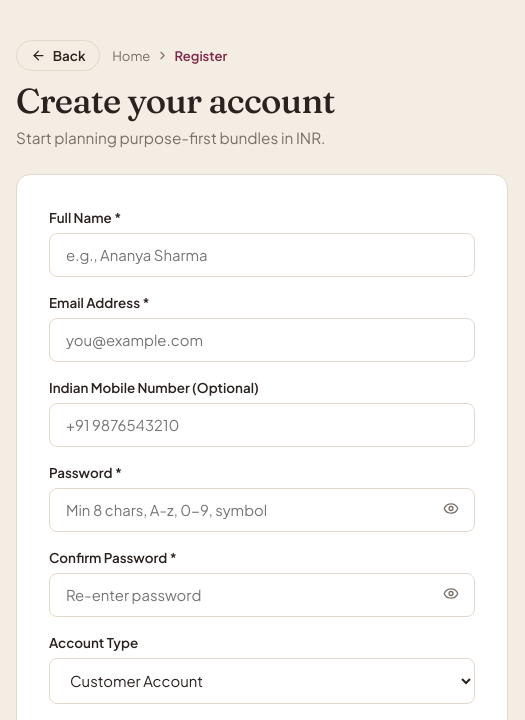
MissionCart Redesigned Frontend Suite › shows inline validation errors on invalid registration submission
Step 1. Type "A" into the field labelled "Full Name *" → point(262, 255), box [49,233,475,277]
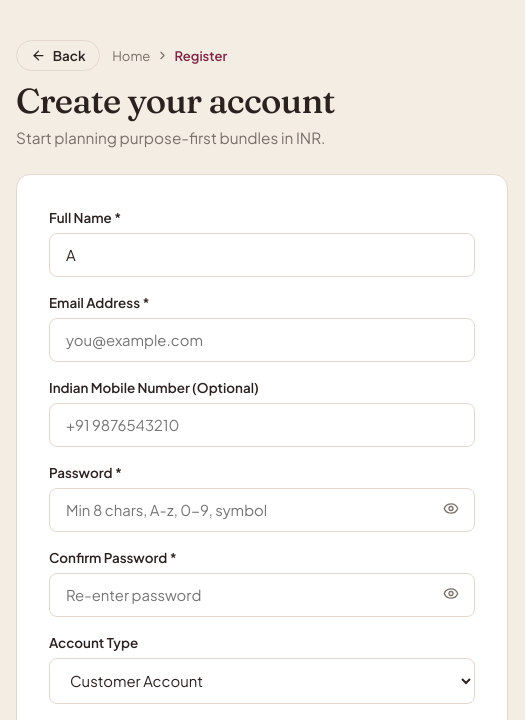
Step 2. Type "not-an-email" into the field labelled "Email Address *" → point(262, 340), box [49,318,475,362]
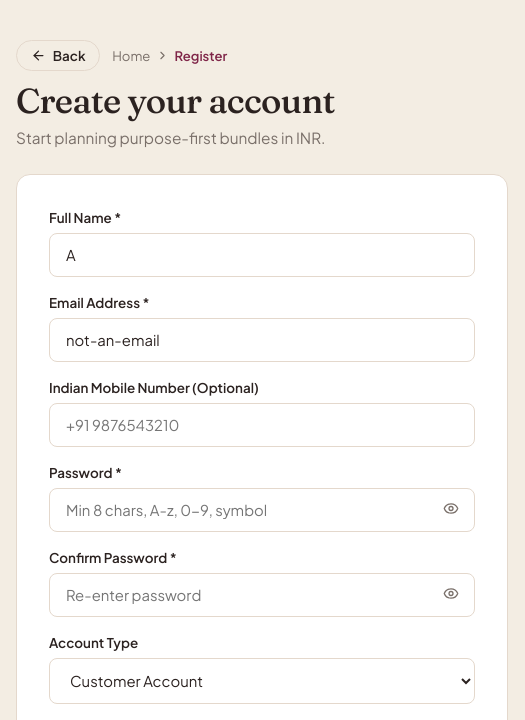
Step 3. Type "weak" into the password field labelled "Password *" → point(262, 510), box [49,488,475,532]
(page scrolled)
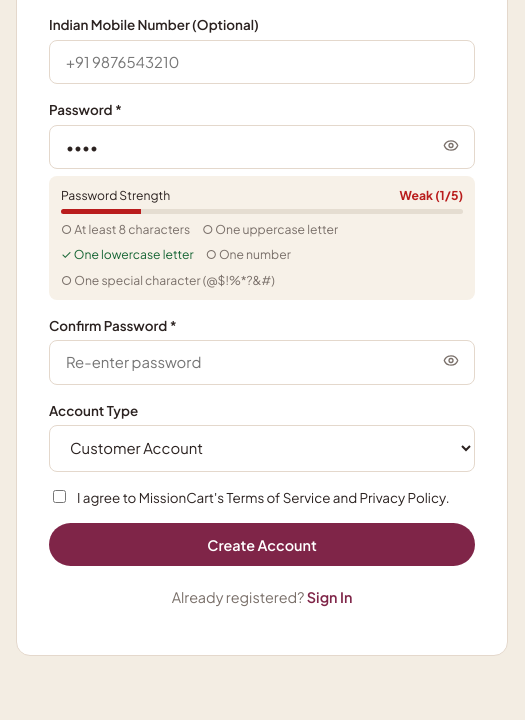
Step 4. Type "other" into the password field labelled "Confirm Password *" → point(262, 362), box [49,340,475,384]
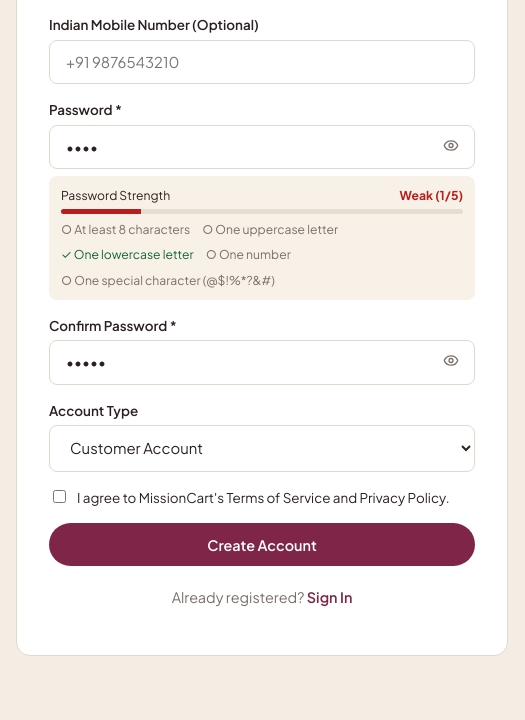
Step 5. Click the button "Create Account" → point(262, 545), box [49,523,475,566]
(page scrolled)
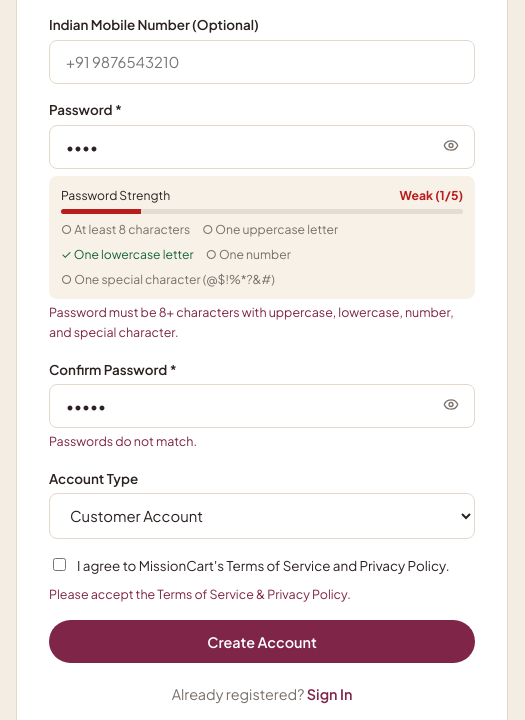
Now the text "Passwords do not match." is shown, box [49,433,197,449]
Now the text "Please accept the Terms of Service & Privacy Policy." is shown, box [49,586,351,602]
